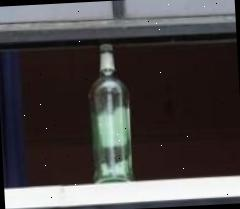glass: (84, 40, 134, 187)
